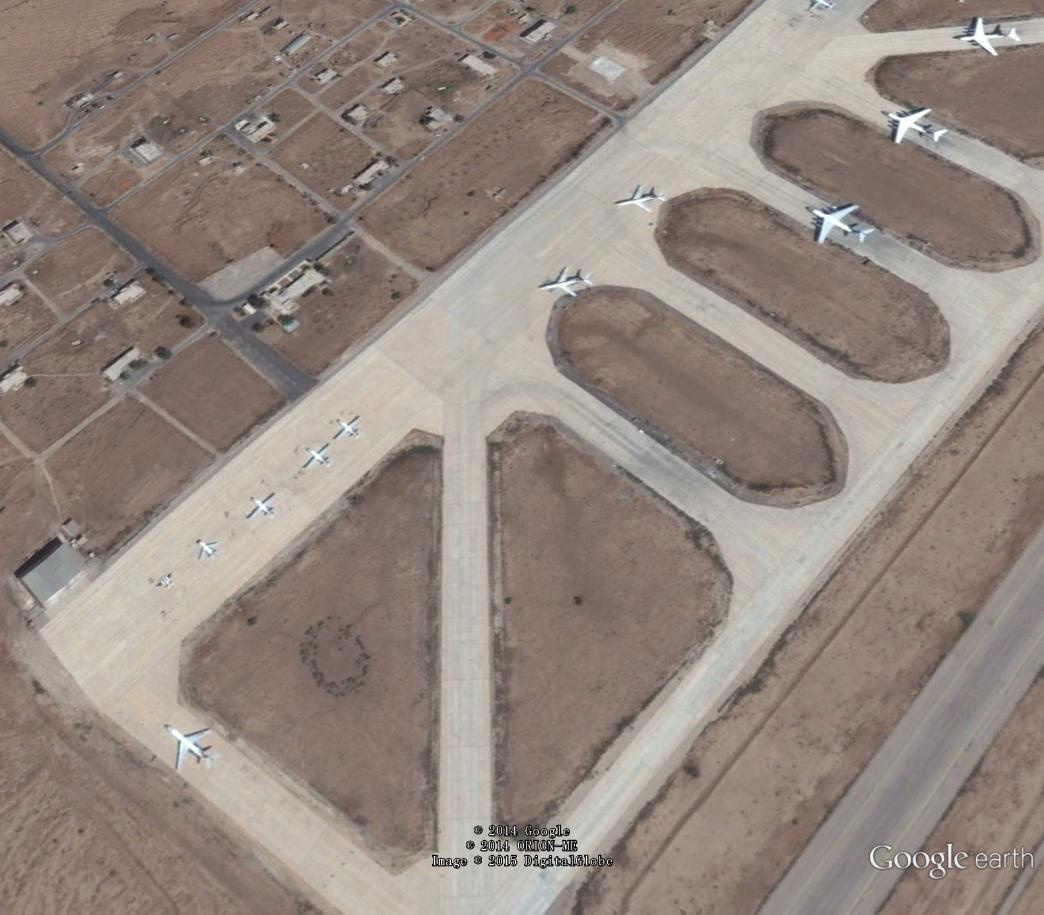aircraft: (802, 196, 883, 253), (877, 103, 960, 150), (954, 12, 1024, 61), (163, 717, 223, 774), (610, 181, 670, 219), (540, 262, 598, 300), (243, 489, 283, 523), (300, 441, 339, 472), (333, 411, 367, 444), (193, 537, 229, 565)
